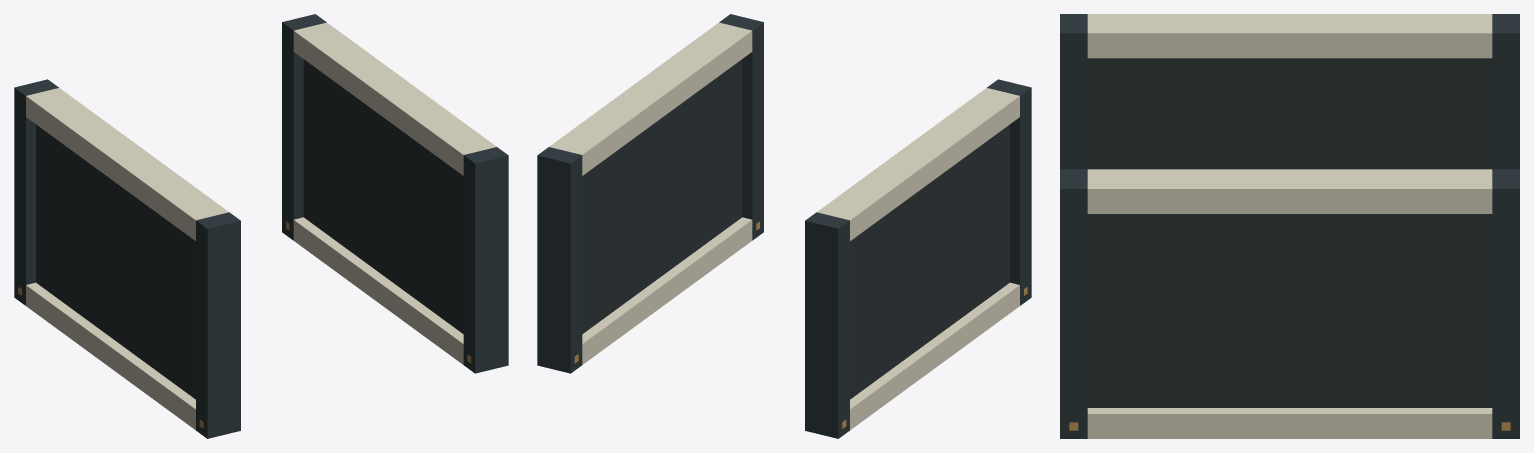
The picture shows the model from 3 angles, left to right: view 1: azimuth 30°, elevation 25°; view 2: azimuth 150°, elevation 25°; view 3: azimuth 270°, elevation 25°; orthographic projection. The views are drawn at different scales.
Visible parts, largest first — view 1: 城市场景飞机双侧玻璃舱片; view 2: 城市场景飞机双侧玻璃舱片; view 3: 城市场景飞机双侧玻璃舱片.
Boxes of the visible parts, box(x1,y1,x2,y2) form: 城市场景飞机双侧玻璃舱片: box(14, 14, 508, 438); 城市场景飞机双侧玻璃舱片: box(537, 14, 1031, 438); 城市场景飞机双侧玻璃舱片: box(1060, 14, 1519, 438).
Bounding box in the file's own units: 1.8 × 1.2 × 2.
4 materials, 4 textured.
